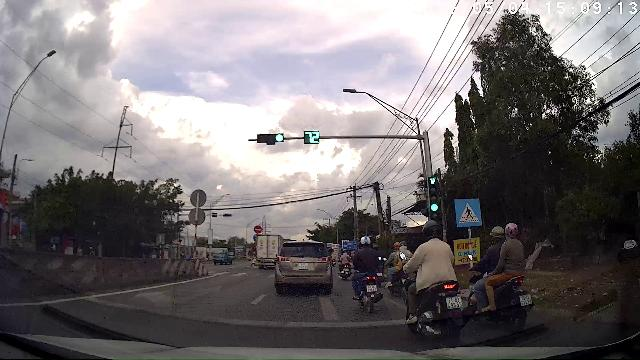102-cam-di-nguoc-chieu: (254, 225, 263, 233)
423a-duong-nguoi-di-bo-sang-ngang-1: (456, 199, 482, 226)
